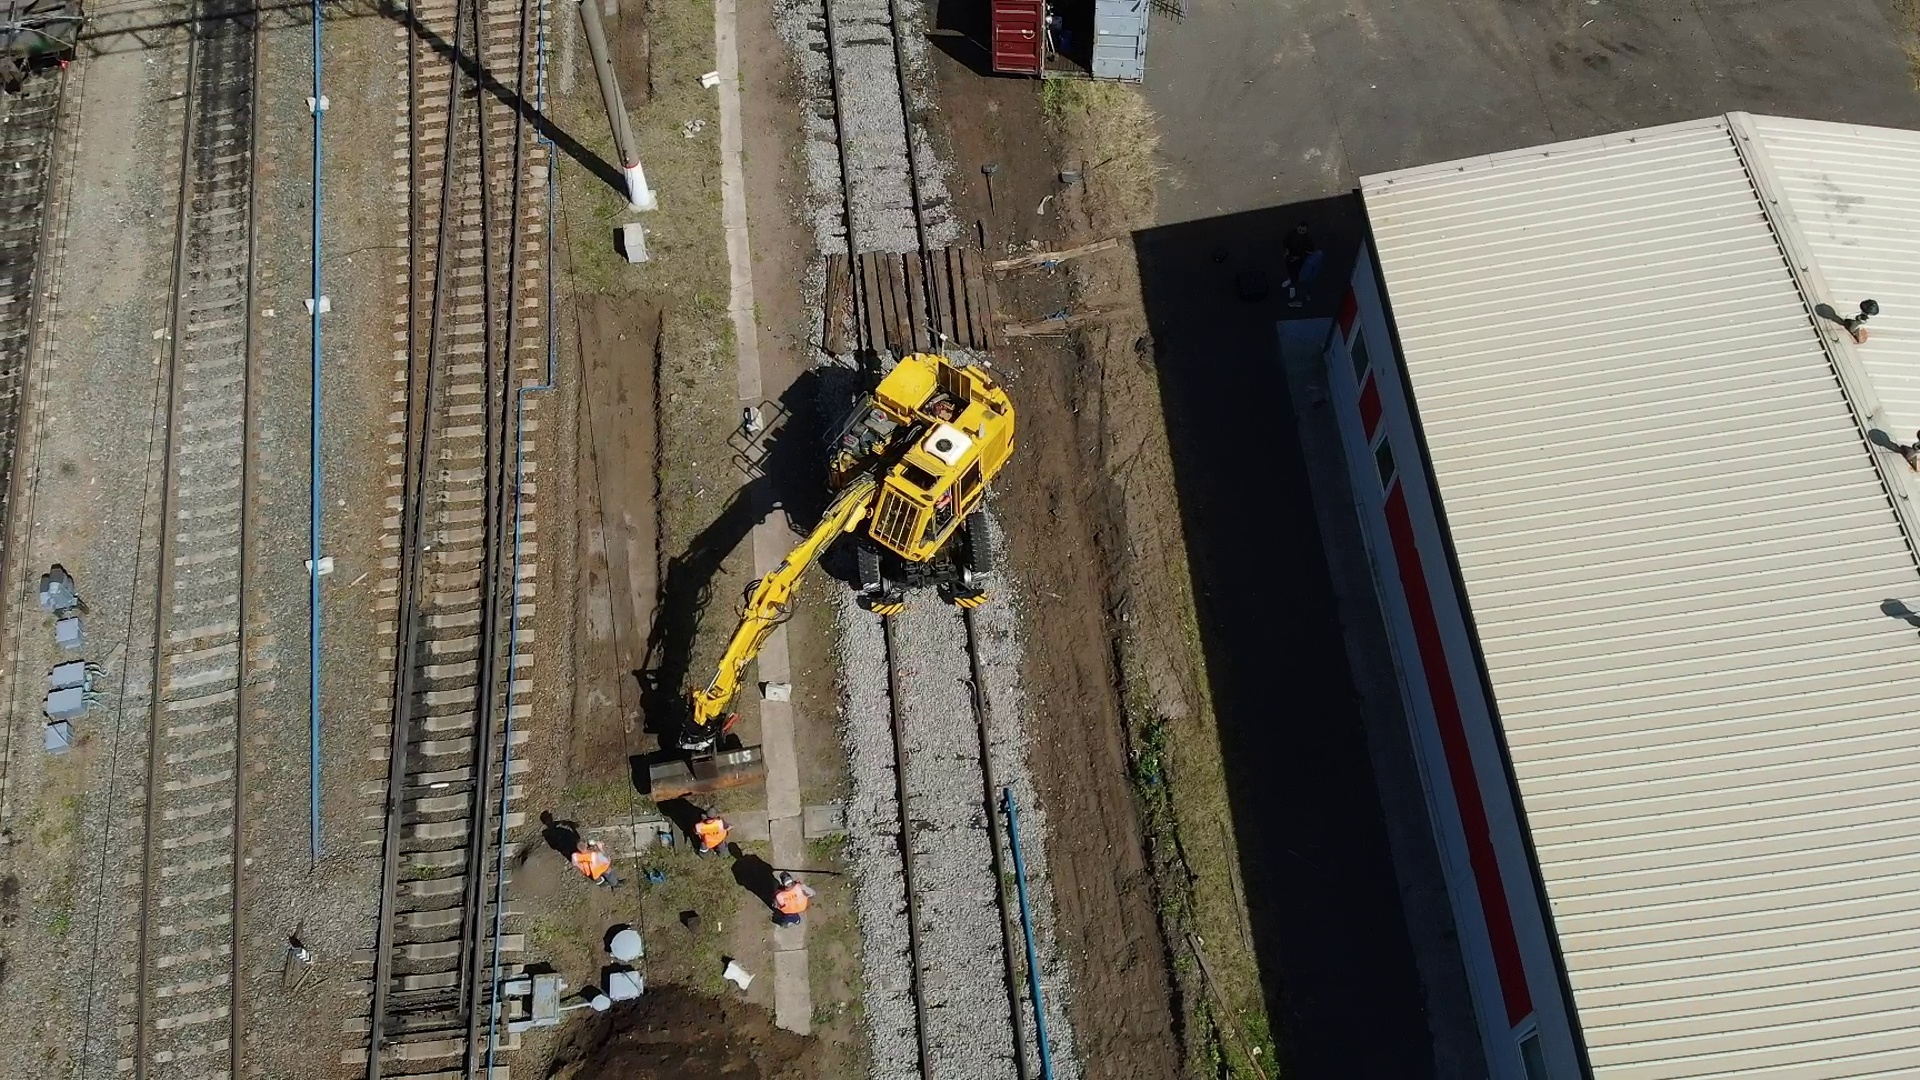kjtv: (779, 330, 1011, 625)
